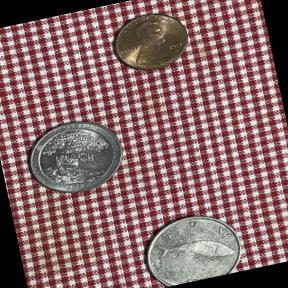Croatia-2Kune-B: (132, 202, 252, 288)
US-1cent-B: (104, 2, 198, 80)
US-25cent-B: (18, 108, 132, 203)
